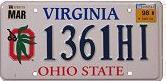placa de veiculo: (1, 1, 161, 80)
